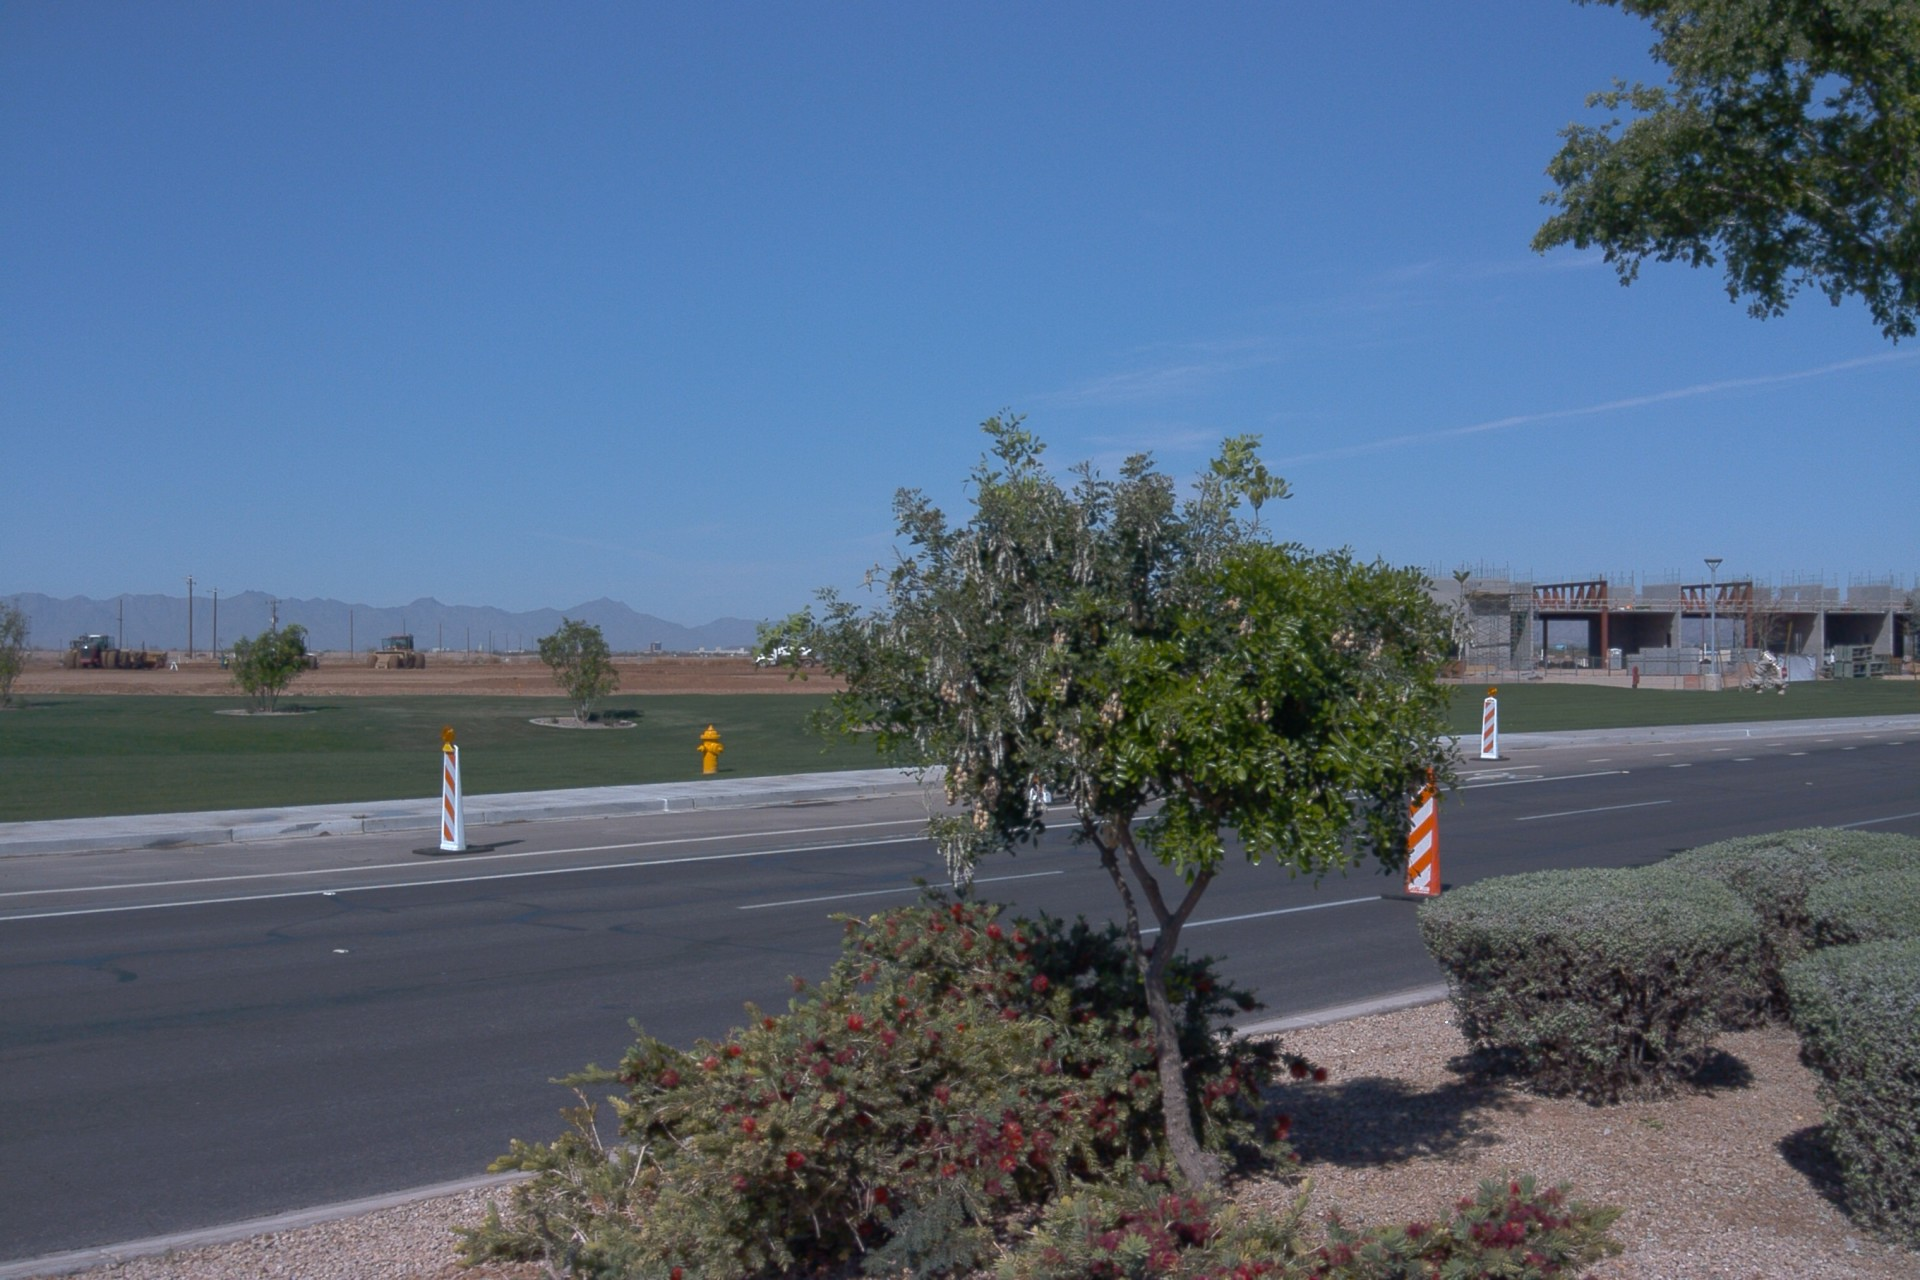TYPE_PEDESTRIAN: (225, 655, 231, 670)
TYPE_VEHICLE: (61, 629, 167, 670), (752, 638, 819, 672), (62, 638, 83, 670), (304, 653, 320, 667)
